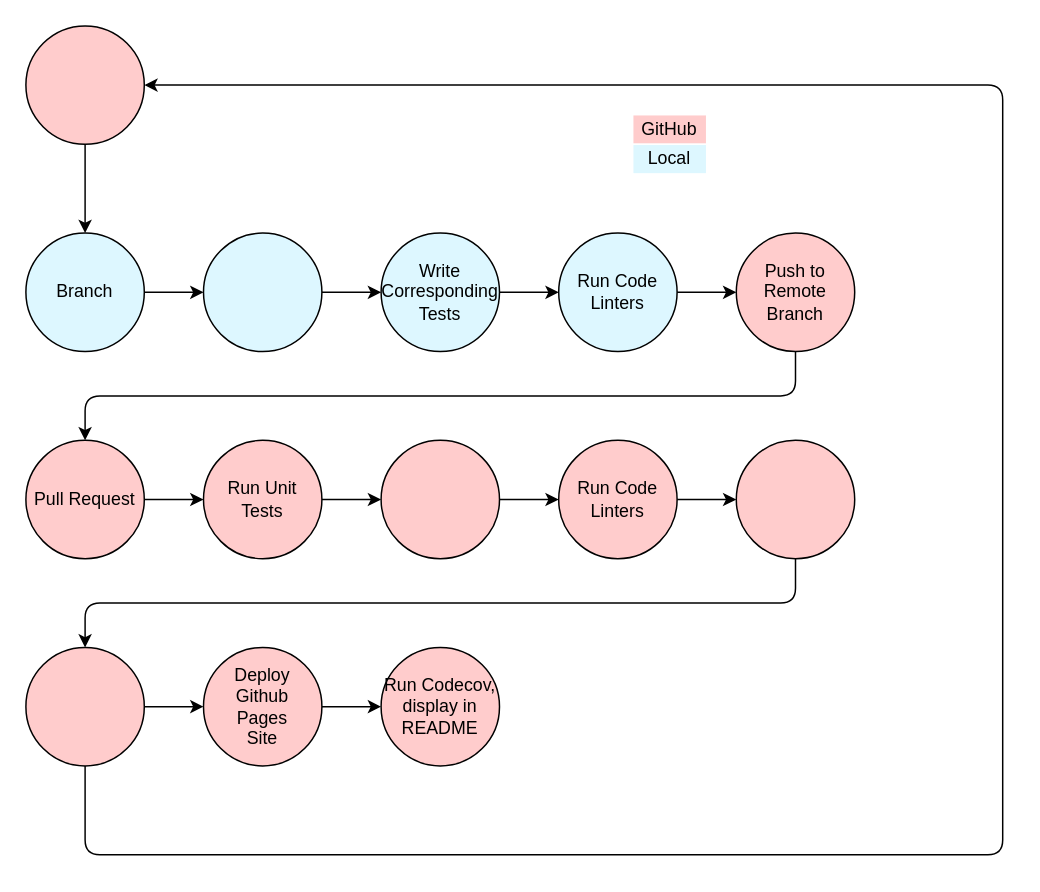
The diagram is 1040 pixels wide and 892 high, and some of its shapes have lost their labels. The centre of each missing label's shape, as x and y in pixels:
Create Issue: (x=84, y=84)
One Other Approval: (x=795, y=499)
Push to main: (x=84, y=706)
Run Codecov: (x=440, y=499)
Write Code: (x=262, y=292)
